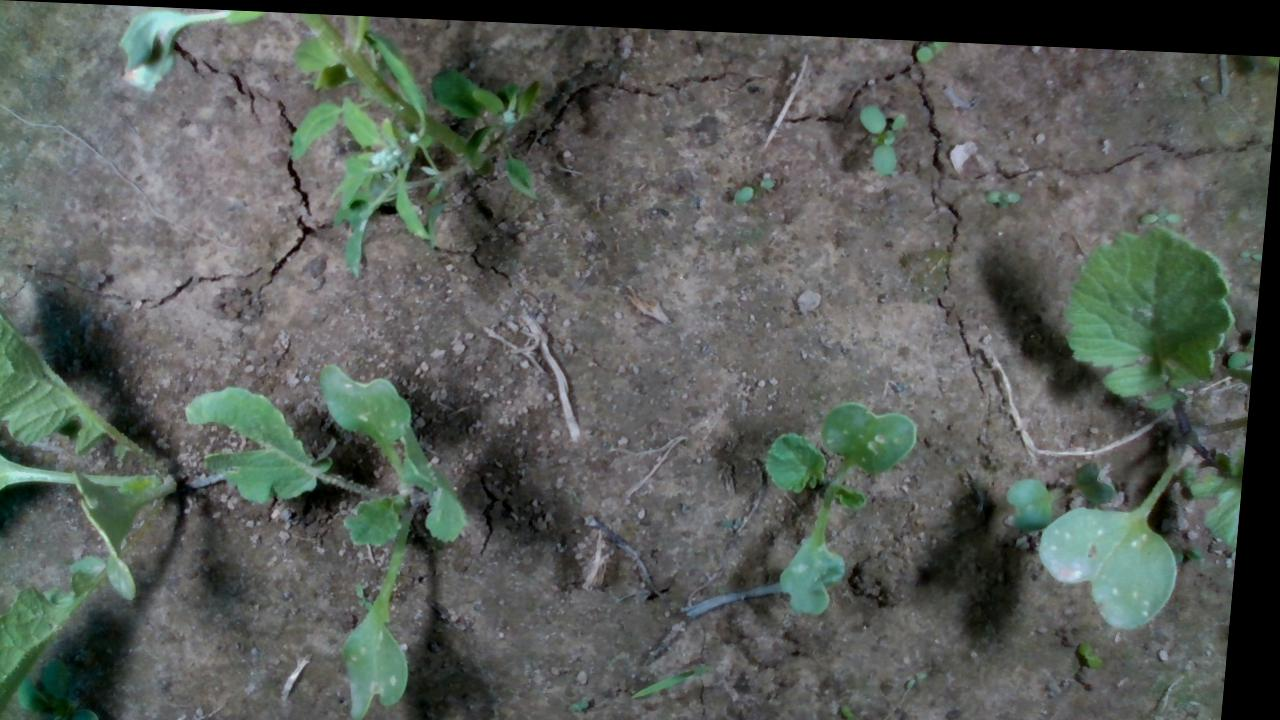weed: (733, 166, 778, 202), (984, 177, 1024, 202), (1085, 629, 1116, 659), (1140, 197, 1187, 214)
